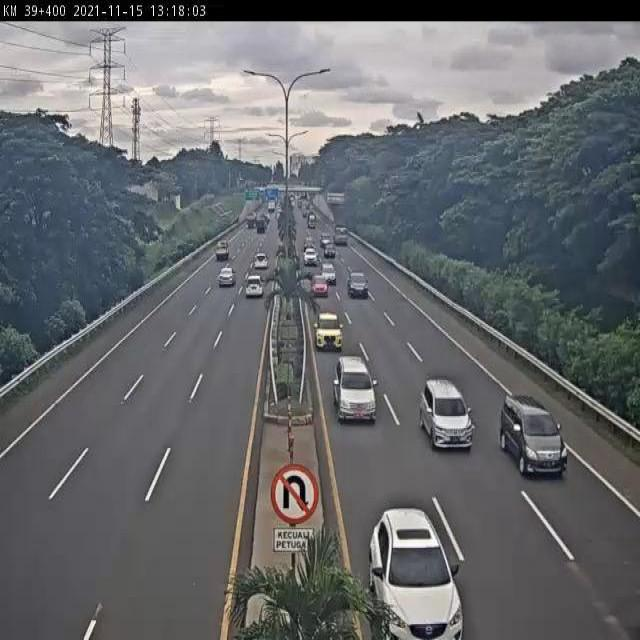car: (366, 505, 463, 640), (498, 393, 570, 480), (417, 376, 477, 455), (330, 354, 378, 426), (314, 311, 344, 352), (346, 271, 370, 300), (243, 273, 266, 303), (310, 272, 331, 301), (218, 265, 237, 291)
